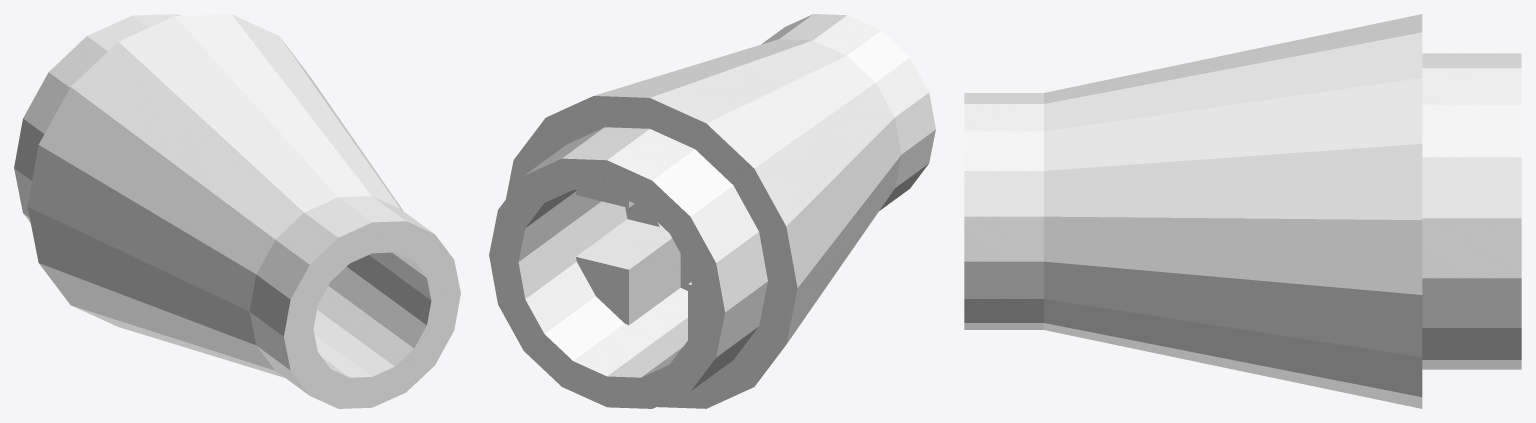
File: nose_cone_1x1.dae
The picture shows the model from 3 angles, left to right: view 1: azimuth 30°, elevation 25°; view 2: azimuth 150°, elevation 25°; view 3: azimuth 270°, elevation 25°; orthographic projection. The views are drawn at different scales.
Parts seen in each view (by area): view 1: node; view 2: node; view 3: node.
Part boxes in pixels (x1,y1,x2,y2): node: [14, 14, 460, 408]; node: [489, 14, 935, 408]; node: [964, 14, 1521, 408].
Bounding box in the file's own units: 19.5 × 19.5 × 27.5.
Materials: 1 (1 with a texture image).
